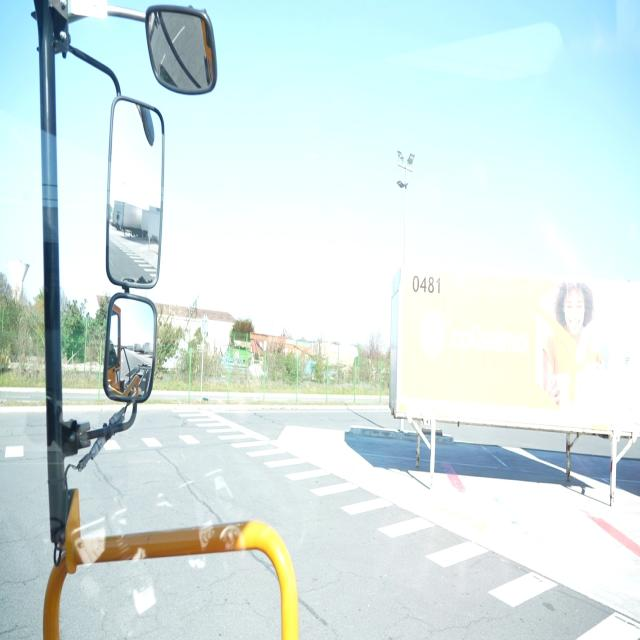Code: (409, 270, 447, 301)
